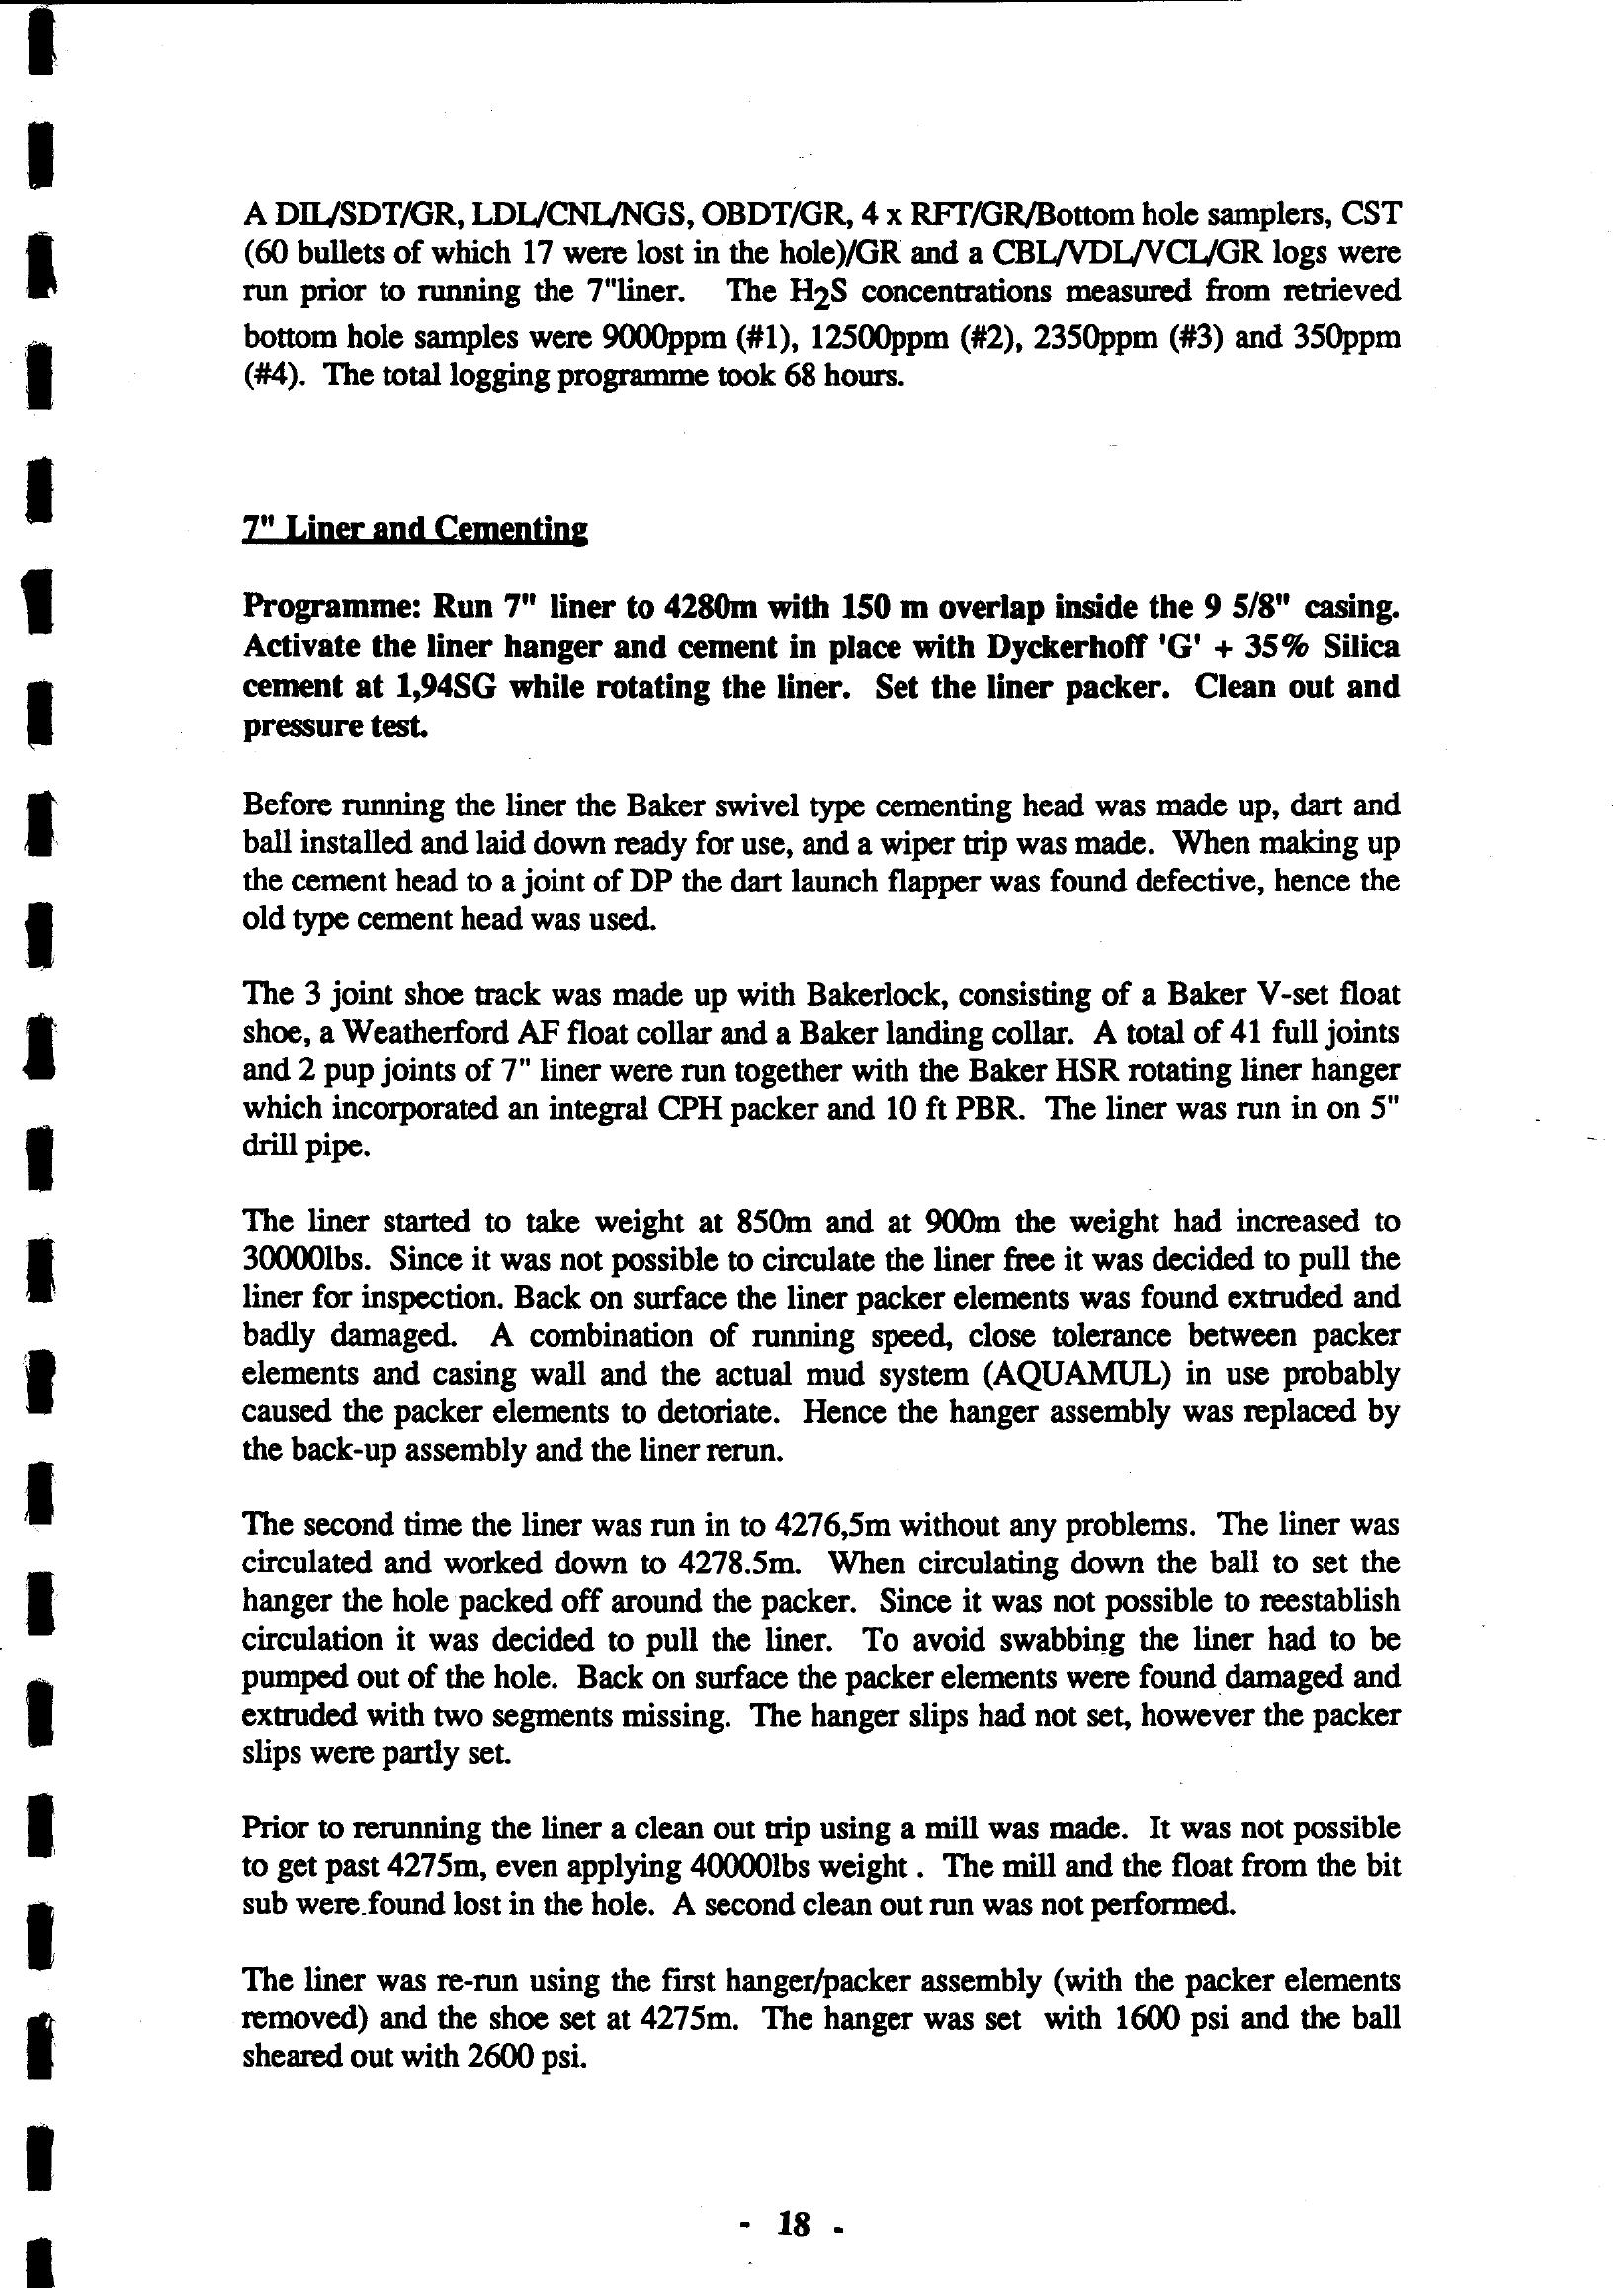text: (181, 170, 1494, 2142)
